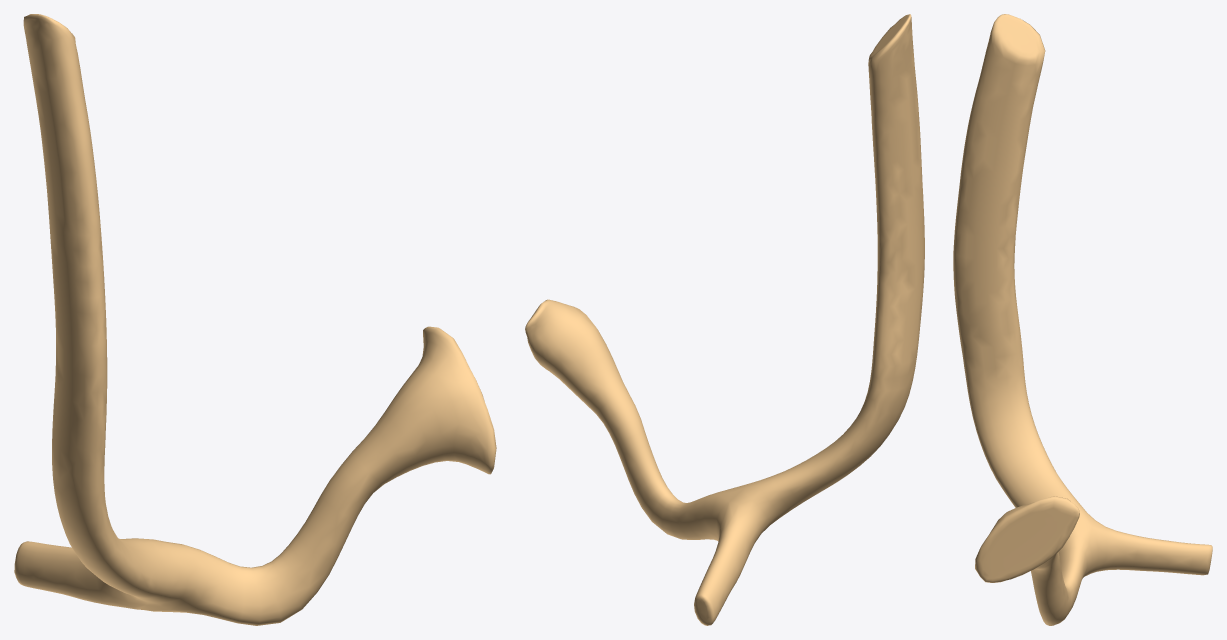
3 renders of one model, left to right at view 1: azimuth 30°, elevation 25°; view 2: azimuth 150°, elevation 25°; view 3: azimuth 270°, elevation 25°, orthographic. The views are drawn at different scales.
Visible parts, largest first — view 1: N_C1.obj; view 2: N_C1.obj; view 3: N_C1.obj.
Part boxes in pixels (x1,y1,x2,y2): N_C1.obj: (14, 14, 496, 625); N_C1.obj: (525, 14, 924, 625); N_C1.obj: (953, 14, 1212, 625).
Bounding box in the file's own units: 0.000706 × 0.00107 × 0.000487.
